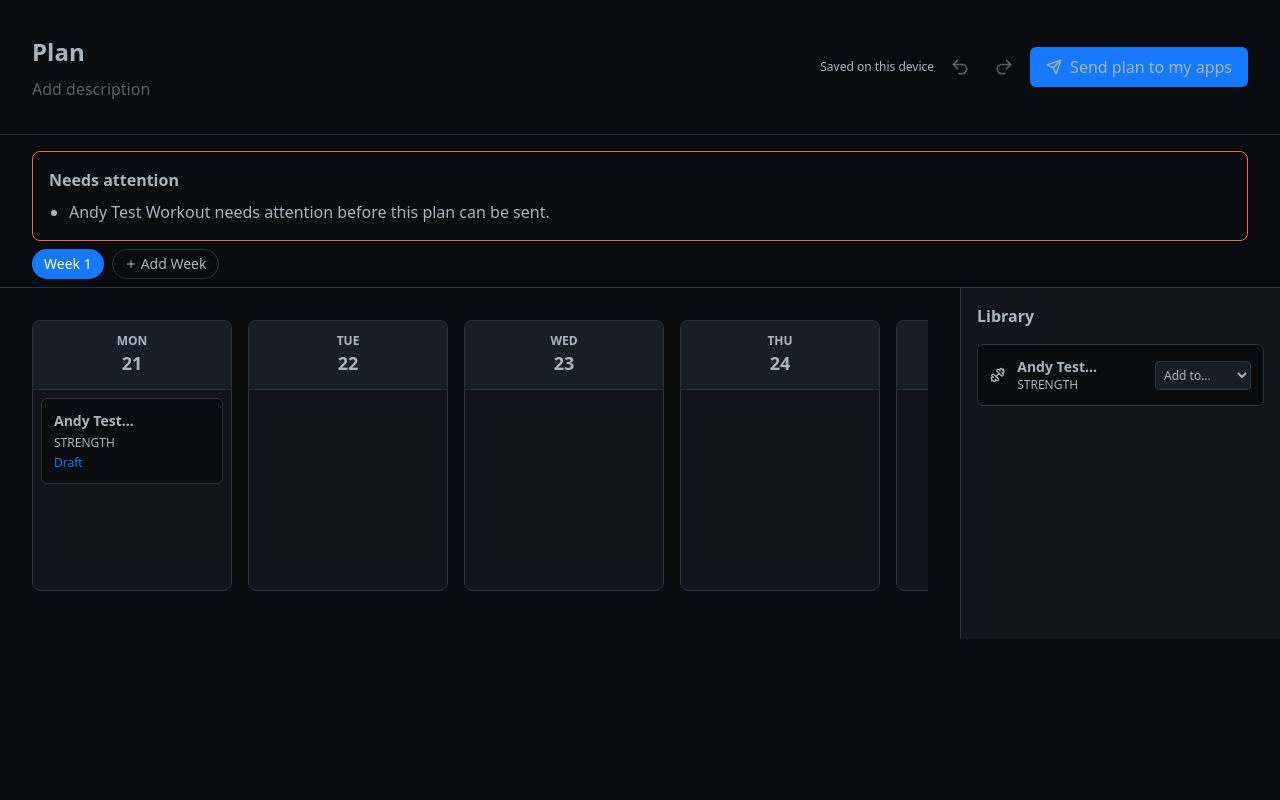
Test case: Plan Send journey › fails before partial publication and offers an accessible correction instead of deterministic Retry
The width and height of the screenshot is (1280, 800).
Expected: the field showing "Plan" is shown, x1=32 y1=32 x2=631 y2=73
Click the button "Send plan to my apps" at (1139, 67), box x1=1030 y1=47 x2=1248 y2=87
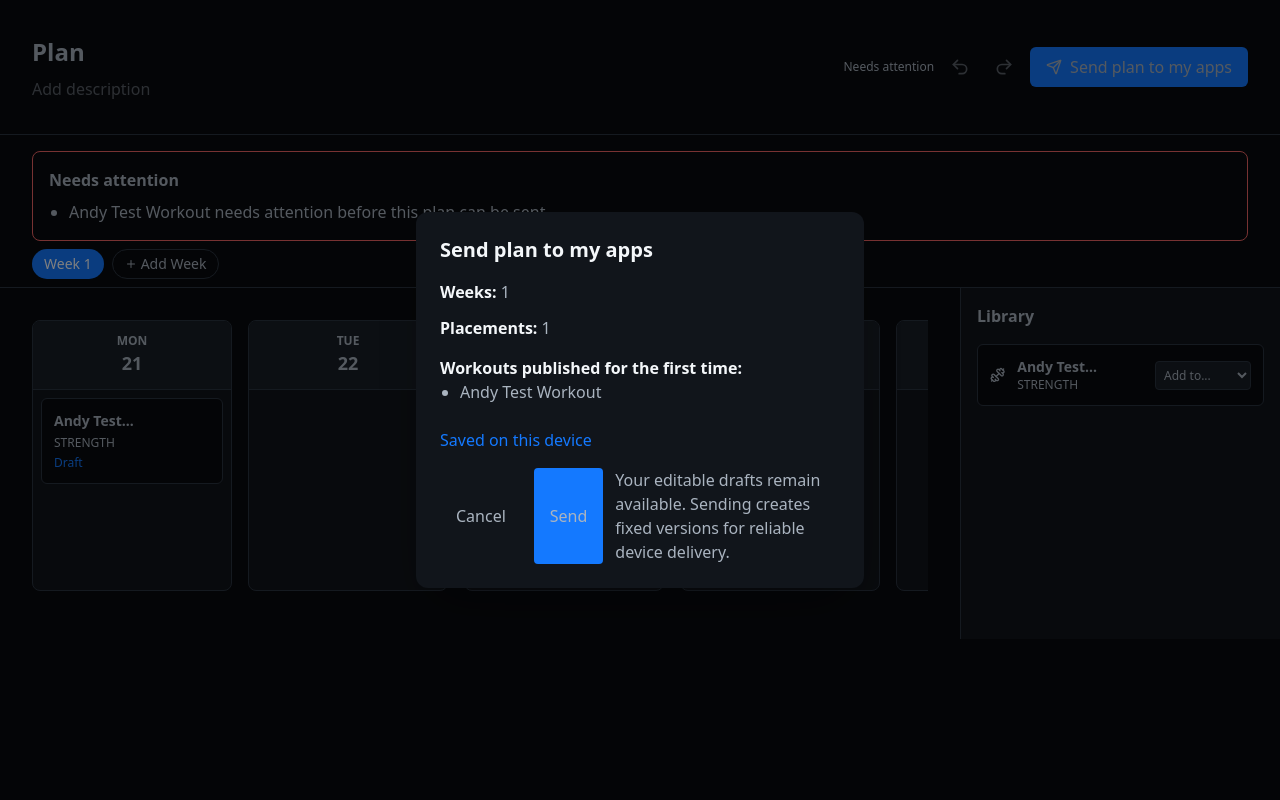
Click the button "Send" at (569, 516), box x1=534 y1=468 x2=603 y2=564
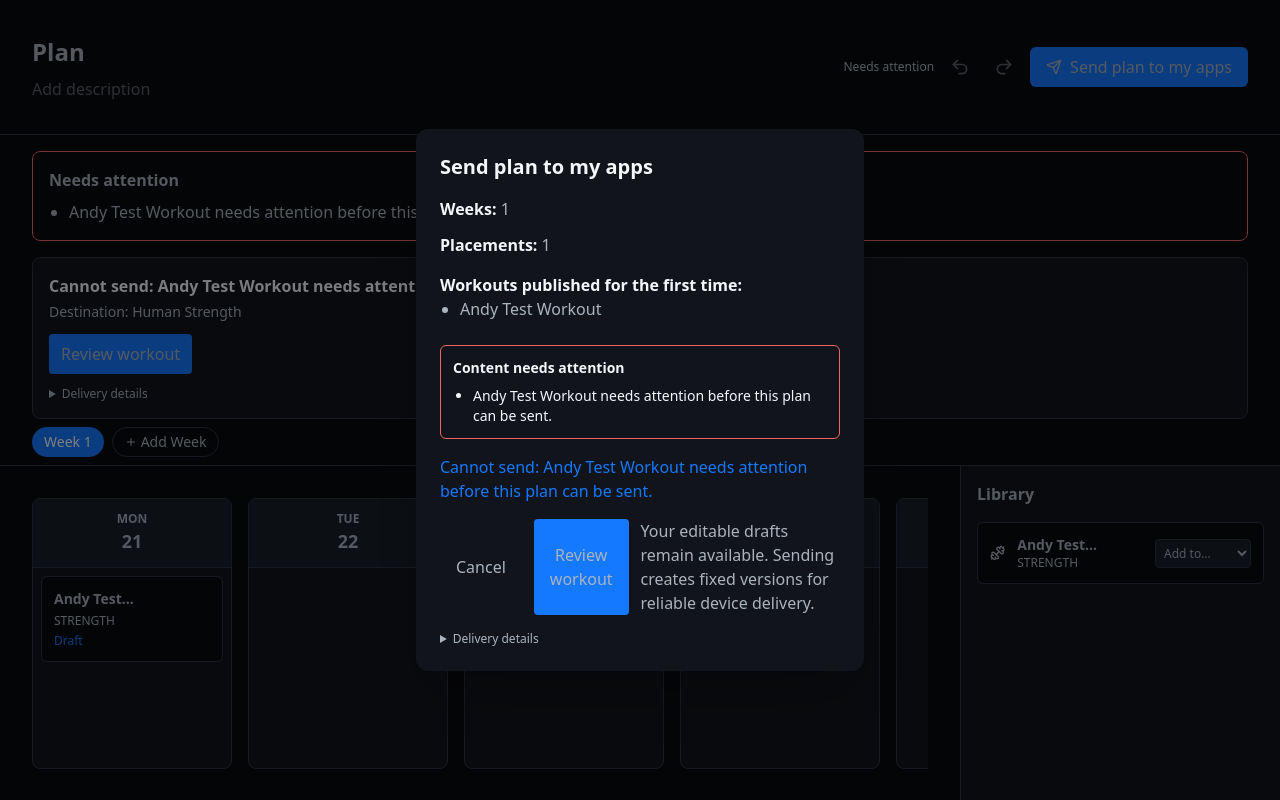
Expected: the heading "Cannot send: Andy Test Workout needs attention before this plan can be sent" is shown, x1=49 y1=275 x2=670 y2=297
Expected: the button "Review workout" is shown, x1=534 y1=519 x2=629 y2=615
